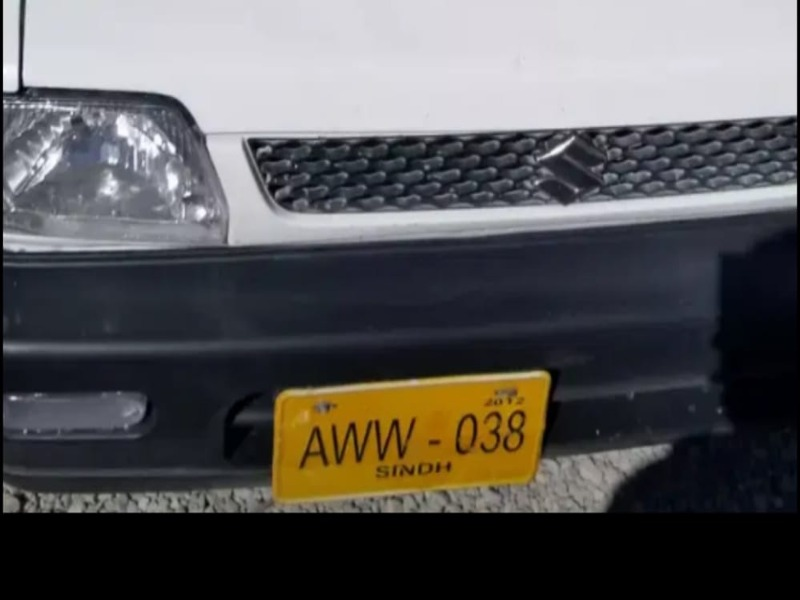License Plate: (272, 370, 549, 493)
